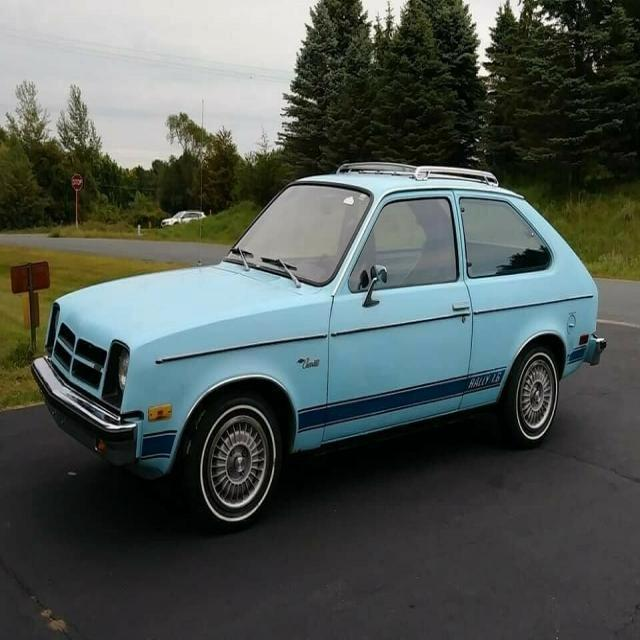car: (30, 162, 608, 531)
